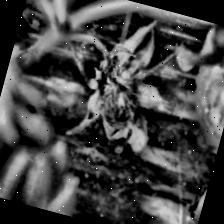Gray Mold: (45, 0, 195, 163)
